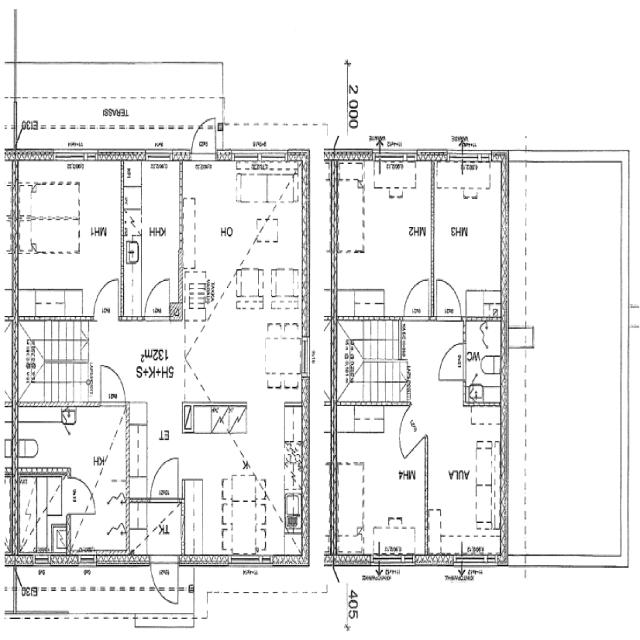door: (148, 453, 182, 503), (148, 554, 180, 607), (397, 408, 426, 460), (435, 340, 468, 385), (142, 274, 174, 320), (92, 273, 122, 322), (62, 475, 97, 517), (188, 114, 218, 162), (97, 361, 128, 407), (433, 274, 464, 320), (401, 274, 432, 320)
window: (376, 146, 418, 167), (460, 552, 497, 572), (298, 331, 312, 381), (377, 552, 414, 570), (228, 552, 263, 570), (52, 148, 91, 164), (257, 148, 288, 168), (232, 147, 263, 167), (145, 148, 175, 164), (76, 553, 98, 569)
zone: (180, 162, 305, 559), (12, 160, 124, 318), (333, 162, 434, 318), (332, 405, 428, 559), (426, 404, 504, 556), (432, 161, 505, 318), (124, 157, 182, 316), (15, 404, 127, 478), (15, 475, 67, 560), (66, 502, 130, 561), (464, 318, 504, 404), (128, 499, 184, 558)
